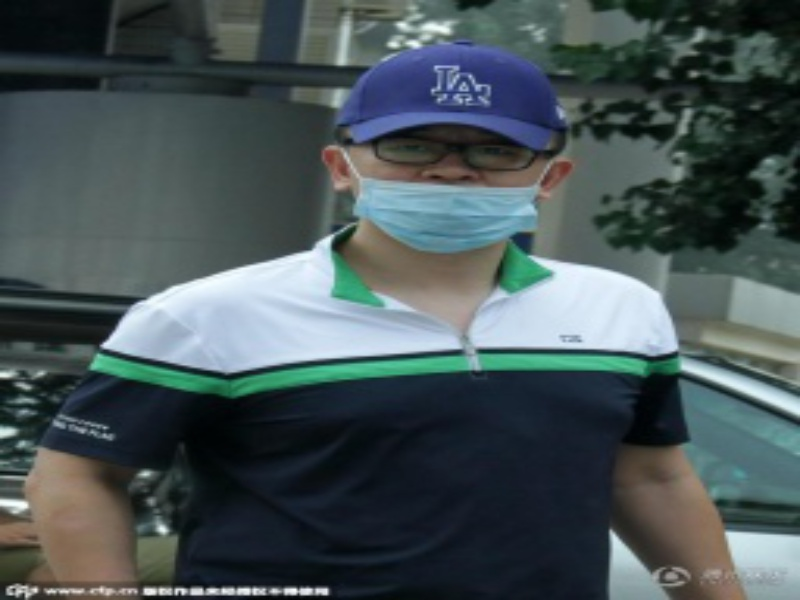ManaoArotava: (317, 39, 593, 279)
